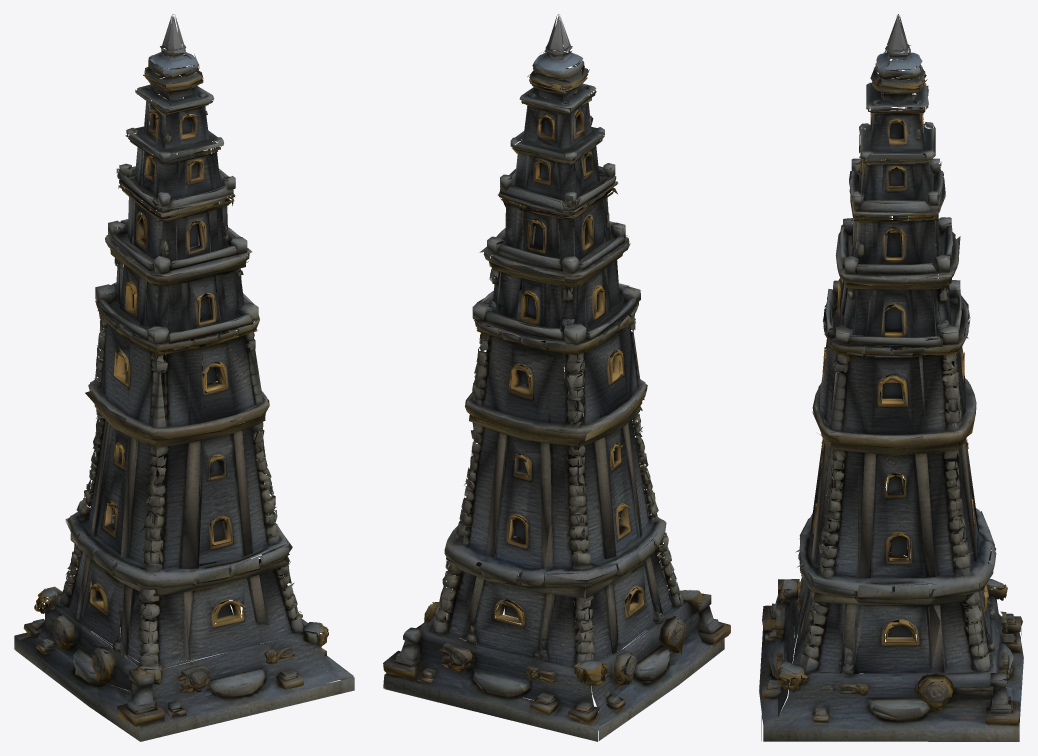
Rendered from ch7_city_of_echoes_tower_LOD1.glb.
3 renders of one model, left to right at view 1: azimuth 30°, elevation 25°; view 2: azimuth 150°, elevation 25°; view 3: azimuth 270°, elevation 25°, orthographic. The views are drawn at different scales.
Visible parts, largest first — view 1: tripo_node_c2a44c5a-c4bc-4a38-bb47-af0087f2003a; view 2: tripo_node_c2a44c5a-c4bc-4a38-bb47-af0087f2003a; view 3: tripo_node_c2a44c5a-c4bc-4a38-bb47-af0087f2003a.
Part boxes in pixels (x1,y1,x2,y2): tripo_node_c2a44c5a-c4bc-4a38-bb47-af0087f2003a: (14,14,354,741); tripo_node_c2a44c5a-c4bc-4a38-bb47-af0087f2003a: (383,14,730,741); tripo_node_c2a44c5a-c4bc-4a38-bb47-af0087f2003a: (759,14,1023,741).
Bounding box in the file's own units: 0.3578 × 0.9982 × 0.3574.
1 material, 1 textured.
